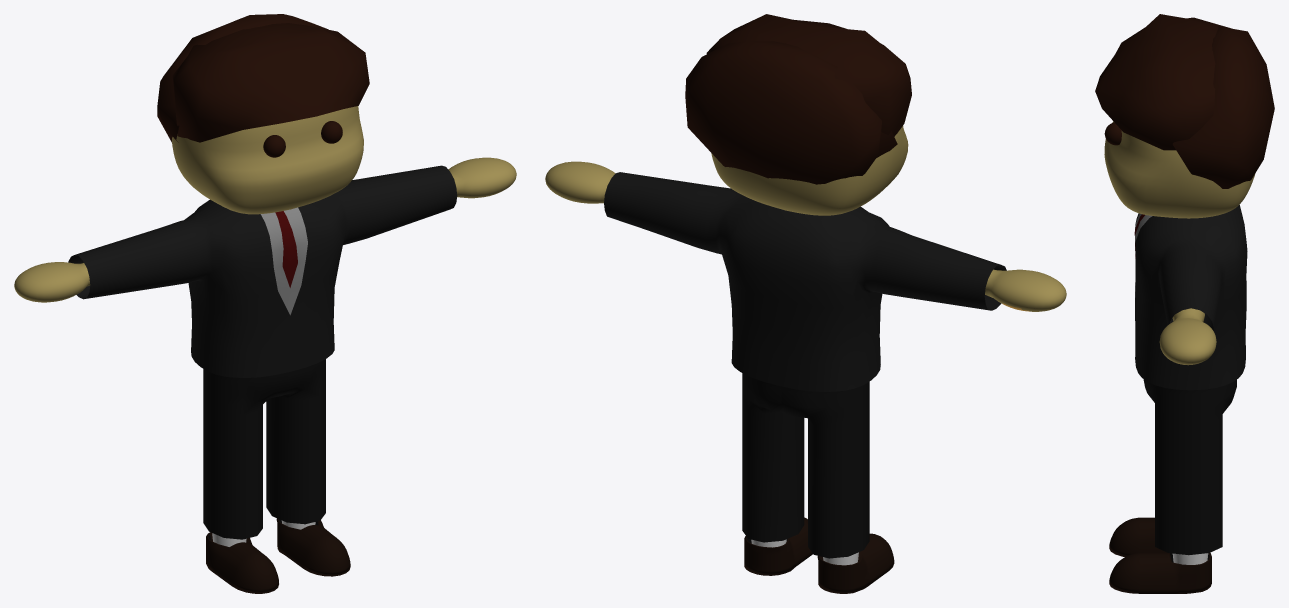
File: Ares Model.fbx
The picture shows the model from 3 angles, left to right: view 1: azimuth 30°, elevation 25°; view 2: azimuth 150°, elevation 25°; view 3: azimuth 270°, elevation 25°; orthographic projection. The views are drawn at different scales.
Parts seen in each view (by area): view 1: pSphere2; view 2: pSphere2; view 3: pSphere2.
Part boxes in pixels (x1,y1,x2,y2): pSphere2: (14,14,516,593); pSphere2: (545,14,1066,593); pSphere2: (1095,14,1274,593).
Bounding box in the file's own units: 154 × 156 × 47.83.
